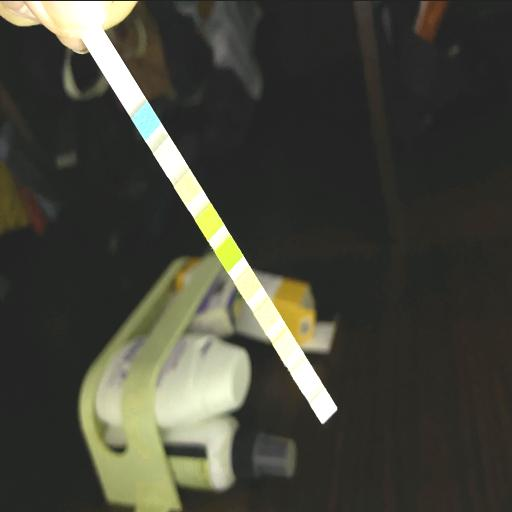Bilirubin: (160, 145, 176, 165)
Blood: (222, 245, 238, 263)
Glucose: (140, 112, 156, 132)
Ketone: (181, 180, 196, 198)
Leukocytes: (317, 398, 331, 414)
Nitrite: (298, 368, 312, 384)
Protein: (261, 308, 275, 324)
SpGravity: (202, 214, 217, 232)
Urobilinogen: (280, 336, 294, 354)
pH: (242, 276, 256, 294)
strip: (88, 30, 337, 423)
